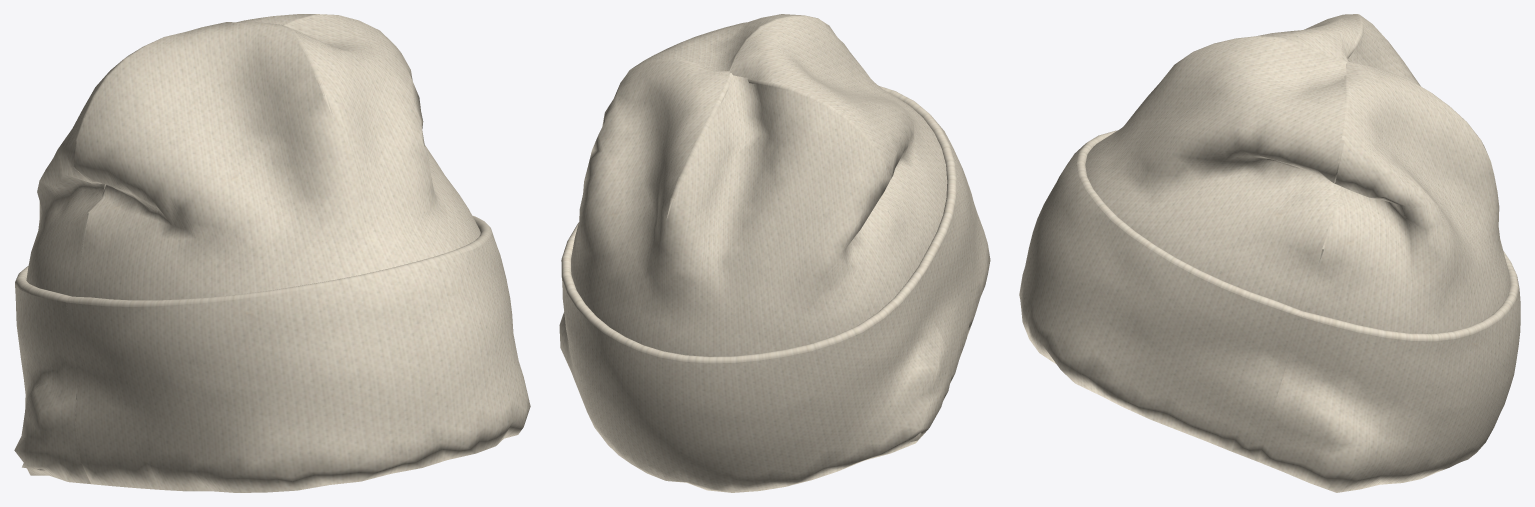
Rendered from cappellino.gltf.
The picture shows the model from 3 angles, left to right: view 1: azimuth 30°, elevation 25°; view 2: azimuth 150°, elevation 25°; view 3: azimuth 270°, elevation 25°; orthographic projection. The views are drawn at different scales.
Visible parts, largest first — view 1: Cloth; view 2: Cloth; view 3: Cloth.
Boxes of the visible parts, <box> form: Cloth: <box>14,14,530,492</box>; Cloth: <box>559,14,990,492</box>; Cloth: <box>1019,14,1520,492</box>.
Bounding box in the file's own units: 0.1886 × 0.1918 × 0.2148.
Materials: 1 (1 with a texture image).
